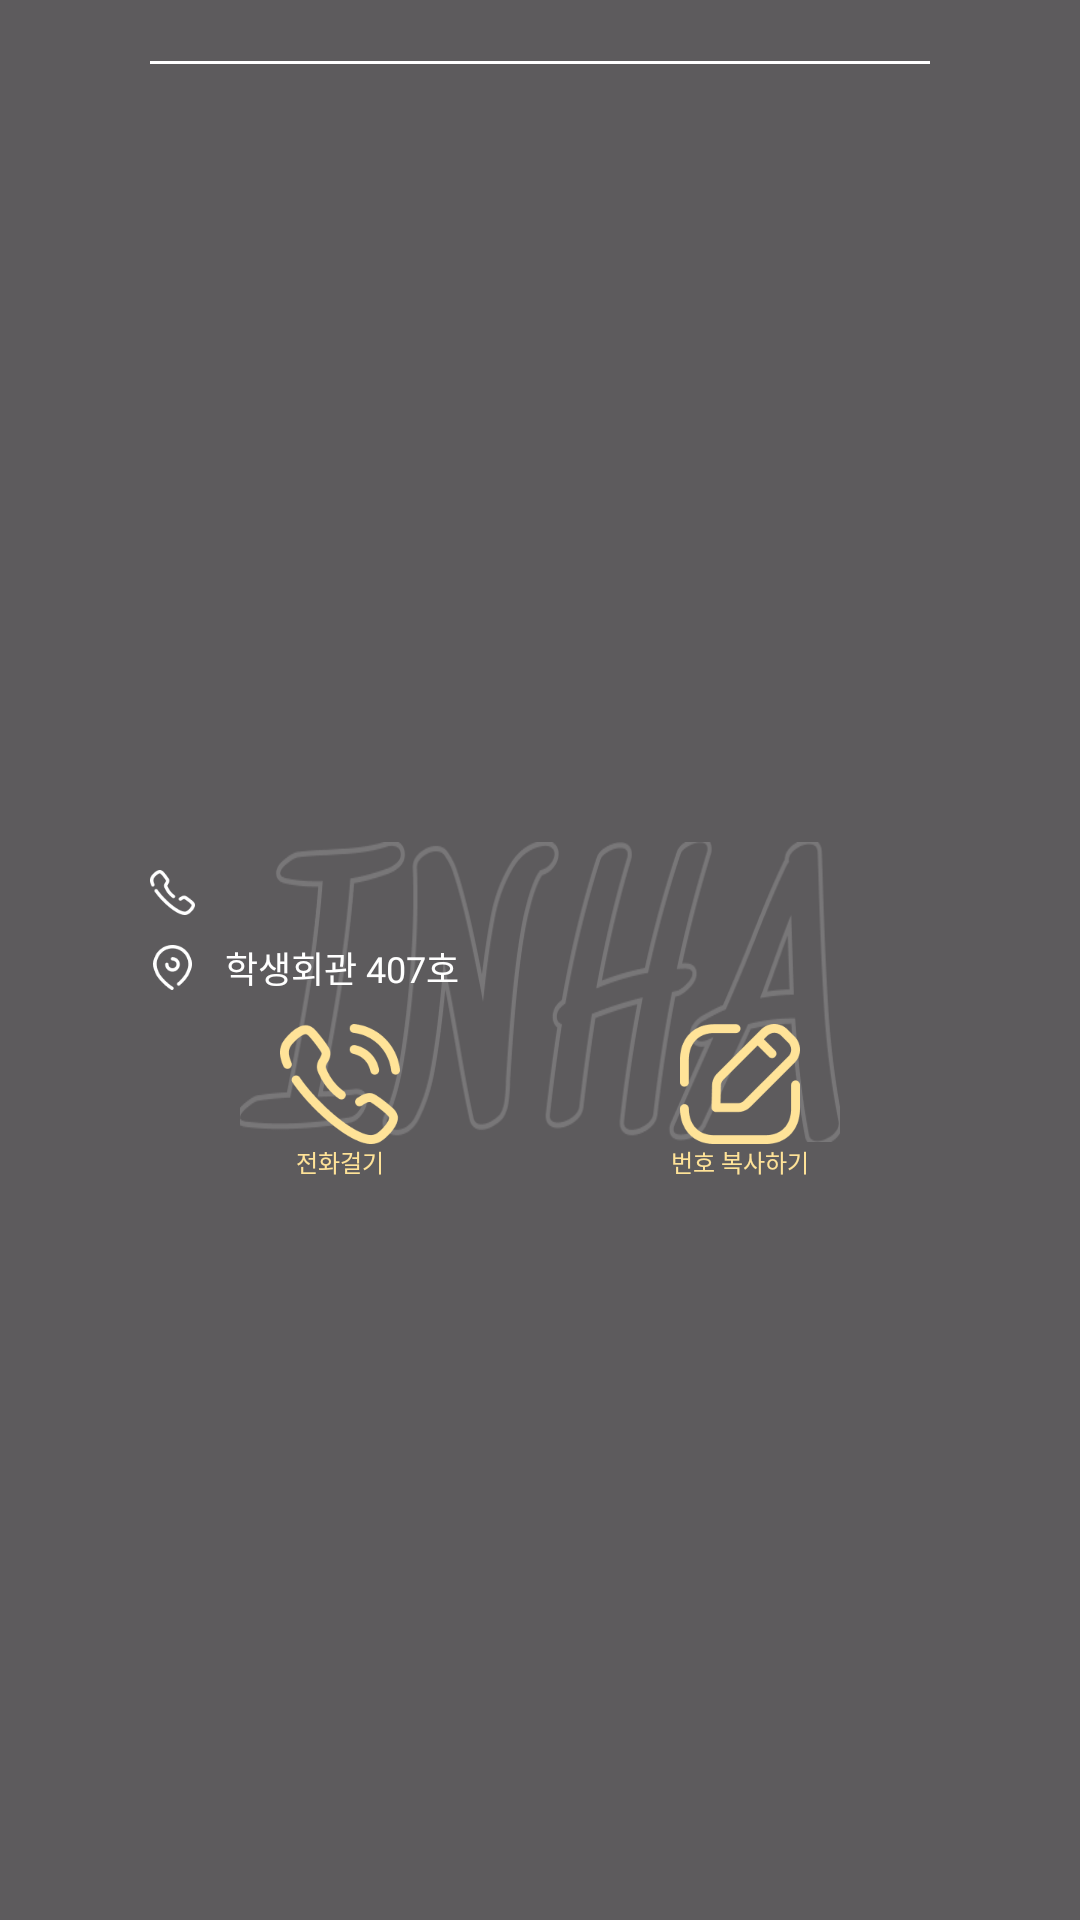

Screen size 1080w x 1920h. Icon name, then its center in pixels as point (x, y):
location: point (172, 967)
